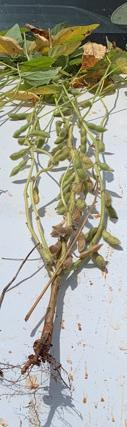soja: (101, 227, 124, 250), (9, 159, 30, 182), (106, 195, 123, 223), (51, 194, 73, 212), (7, 148, 35, 161), (80, 245, 104, 260), (92, 254, 109, 270), (14, 124, 32, 139), (31, 187, 42, 210), (85, 124, 107, 135), (78, 197, 91, 214), (100, 162, 114, 177), (51, 108, 70, 119), (46, 241, 62, 254), (4, 112, 33, 119), (53, 226, 72, 236), (95, 141, 108, 155), (55, 151, 69, 164), (82, 130, 89, 155), (68, 88, 83, 99), (33, 129, 49, 137), (58, 207, 69, 218), (55, 121, 64, 134), (54, 137, 67, 144), (58, 130, 68, 138)
